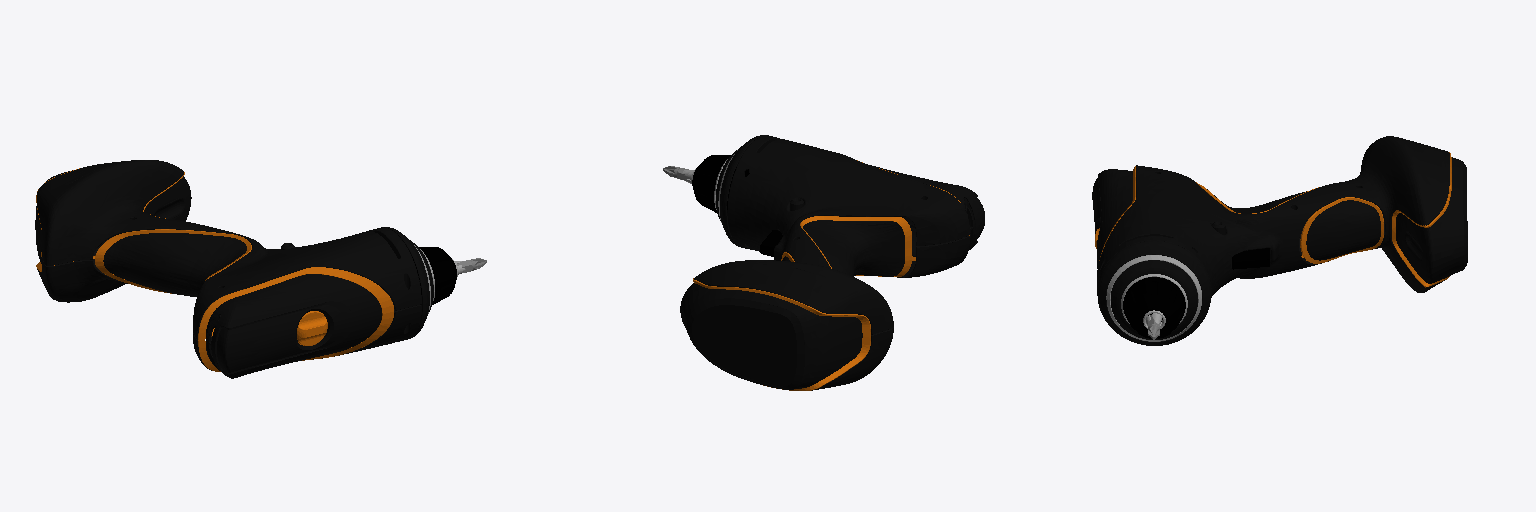
Rendered from downsampled_16k.obj.
3 renders of one model, left to right at view 1: azimuth 30°, elevation 25°; view 2: azimuth 150°, elevation 25°; view 3: azimuth 270°, elevation 25°, orthographic.
Visible parts, largest first — view 1: base_drill.005; view 2: base_drill.005; view 3: base_drill.005.
Boxes of the visible parts, box(x1,y1,x2,y2) form: base_drill.005: box(35, 160, 486, 378); base_drill.005: box(663, 135, 984, 390); base_drill.005: box(1092, 136, 1467, 345).
Bounding box in the file's own units: 0.2069 × 0.0725 × 0.2004.